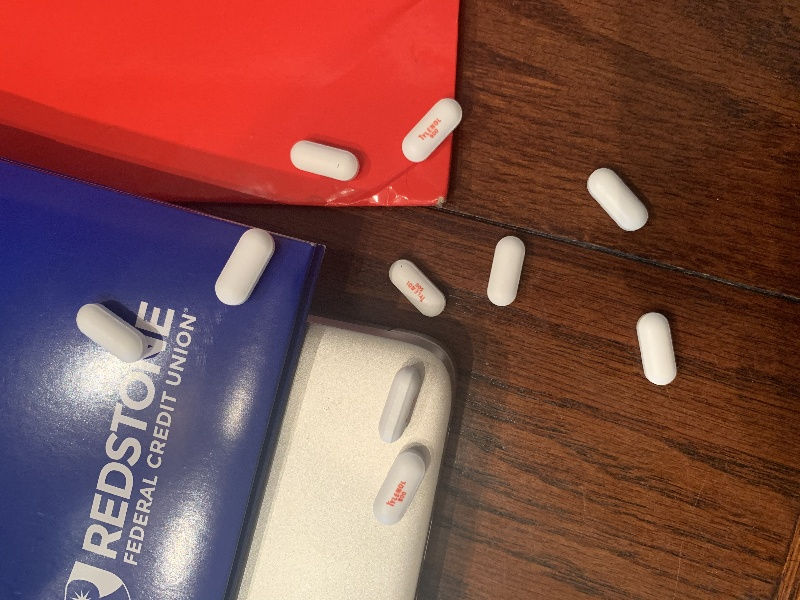Tylenol: (213, 223, 280, 319), (580, 162, 654, 238), (365, 448, 436, 527), (393, 95, 464, 169), (70, 300, 148, 365), (279, 136, 369, 186), (382, 256, 449, 322), (631, 307, 681, 392), (374, 359, 419, 444), (484, 231, 530, 313)
